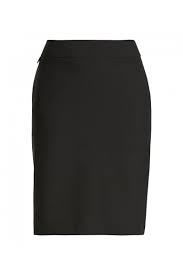F_tailored skirt: (22, 28, 155, 240)
